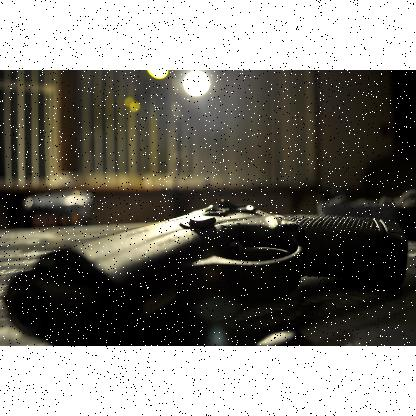gun: (46, 197, 406, 301)
